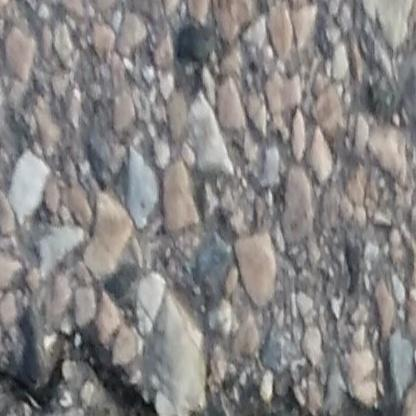Cracks: (0, 320, 395, 416)
